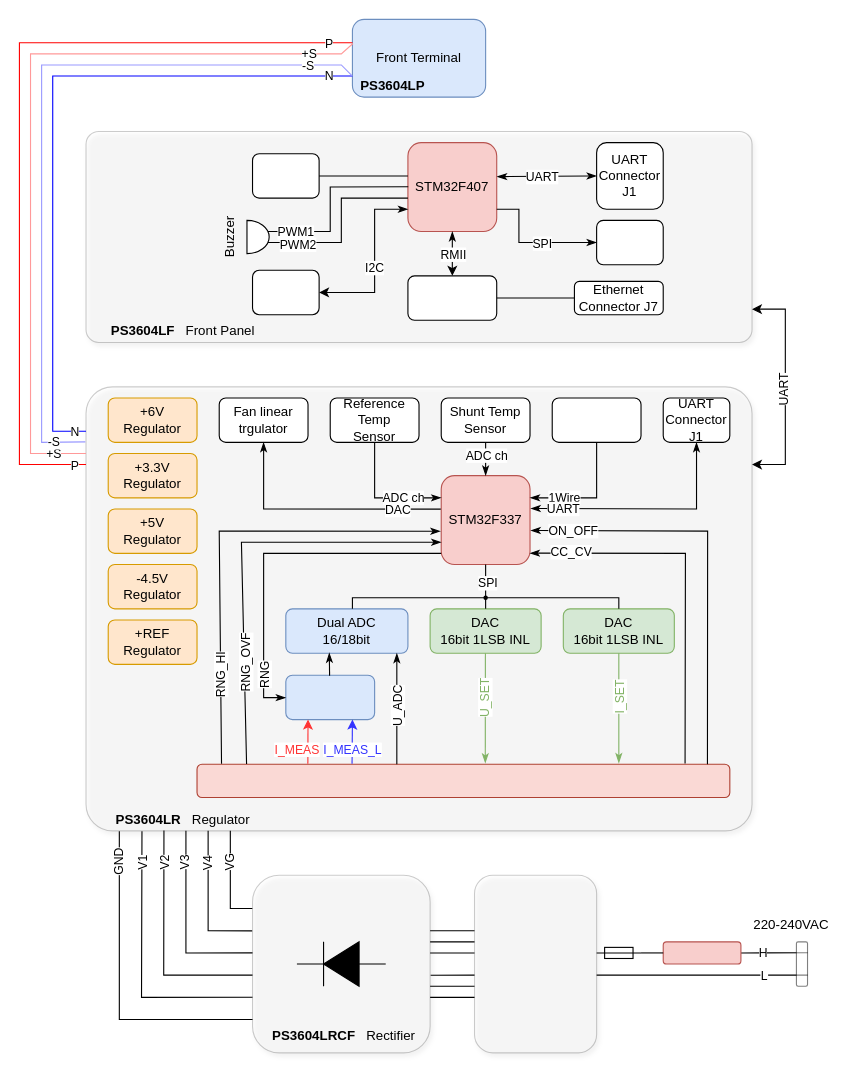
Image size: 860x1080. Some labels were removed from this diagram. Here are the shapes that lost their labels. From the top down, the centre of each, then its label:
the point at 285,175: Buttons
the point at 629,242: LCD 128x160
the point at 285,292: EEPROM
the point at 452,297: LAN8720
the point at 596,419: Radiator Temp Sensor
the point at 330,697: Analog Multiplexer
the point at 463,780: Linear Regulator
the point at 536,965: Transformer
the point at 701,952: Line Switch
